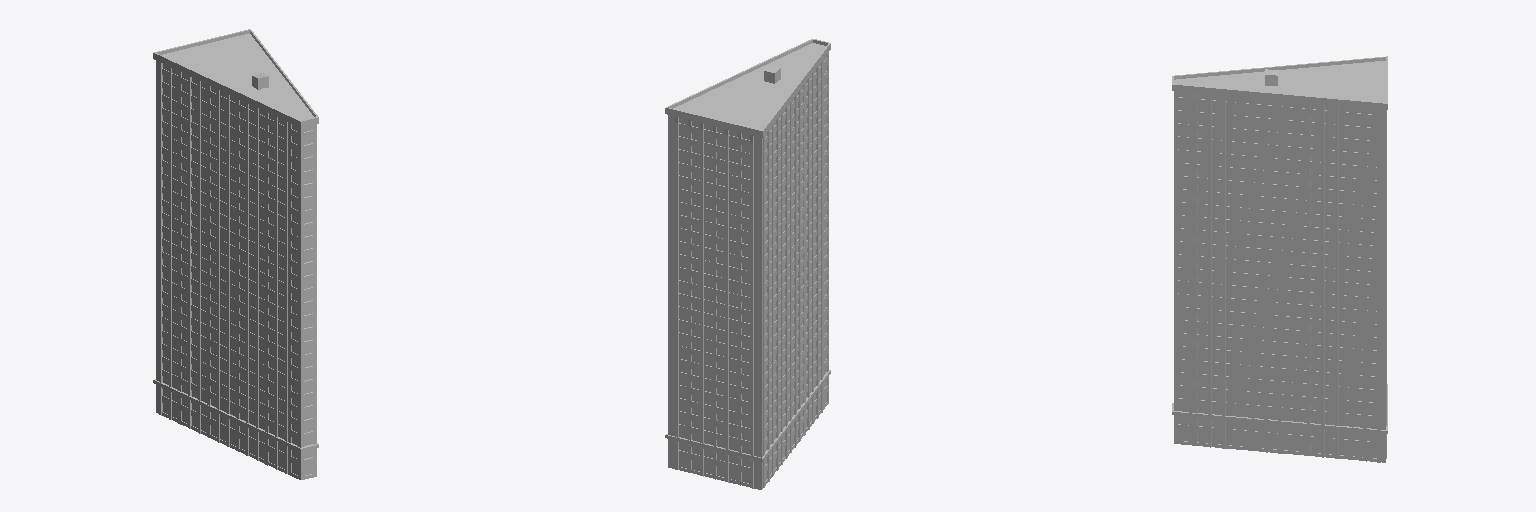
Rendered from niuYork.obj.
3 renders of one model, left to right at view 1: azimuth 30°, elevation 25°; view 2: azimuth 150°, elevation 25°; view 3: azimuth 270°, elevation 25°, orthographic.
Parts seen in each view (by area): view 1: s1; view 2: s1; view 3: s1.
Part boxes in pixels (bbox=[...]): s1: bbox=[153, 29, 318, 479]; s1: bbox=[665, 39, 830, 489]; s1: bbox=[1172, 56, 1387, 462].
Bounding box in the file's own units: 0.3119 × 1.12 × 0.5967.